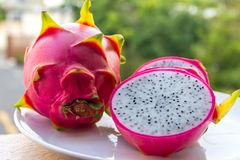dragon-fruit: (19, 6, 117, 126), (110, 65, 221, 156)
